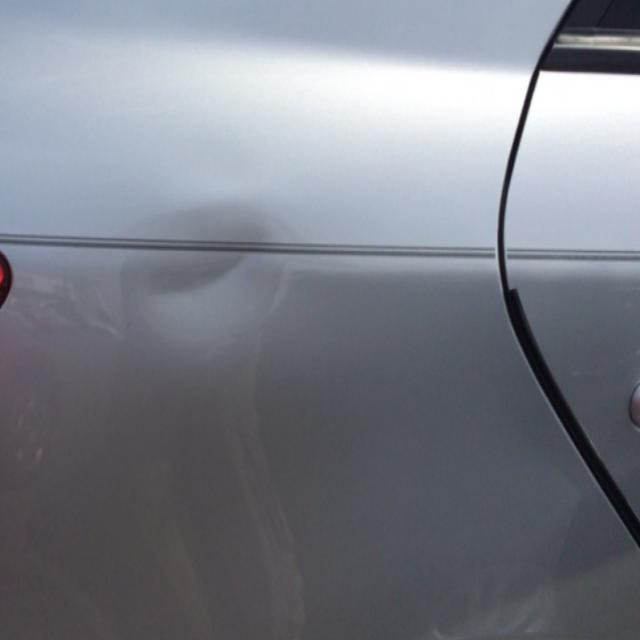dents: (112, 198, 332, 358)
